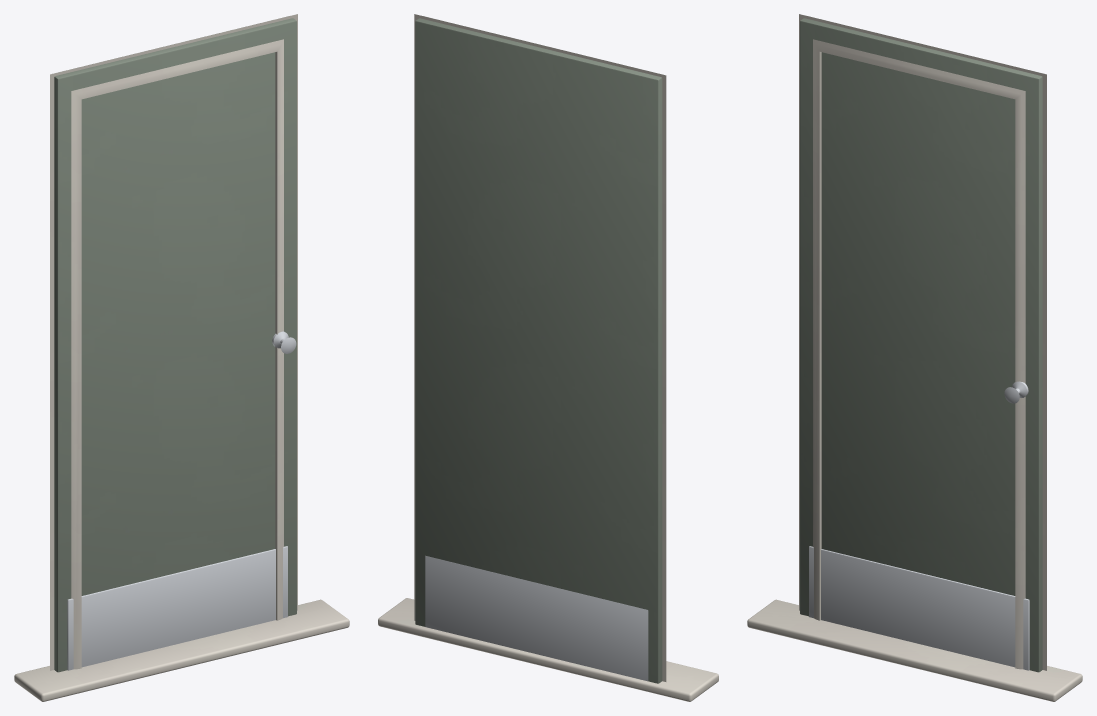
Rendered from porta-servico-medio.glb.
3 views of the same model, side by side, from view 1: azimuth 30°, elevation 25°; view 2: azimuth 150°, elevation 25°; view 3: azimuth 330°, elevation 25° (orthographic).
Visible parts, largest first — view 1: folha, porta-servico-batente, porta-servico-soleira; view 2: folha, porta-servico-soleira, porta-servico-batente; view 3: folha, porta-servico-batente, porta-servico-soleira.
Part boxes in pixels (bbox=[...]): folha: bbox=[54, 18, 296, 672]; porta-servico-batente: bbox=[50, 14, 297, 670]; porta-servico-soleira: bbox=[14, 599, 349, 701]; folha: bbox=[415, 18, 662, 683]; porta-servico-soleira: bbox=[378, 598, 718, 701]; porta-servico-batente: bbox=[414, 14, 666, 681]; folha: bbox=[800, 18, 1042, 672]; porta-servico-batente: bbox=[799, 14, 1046, 670]; porta-servico-soleira: bbox=[747, 599, 1082, 701].
Size of the model in its own units: 1.12 by 2.1 by 0.18.
3 materials, 2 textured.
